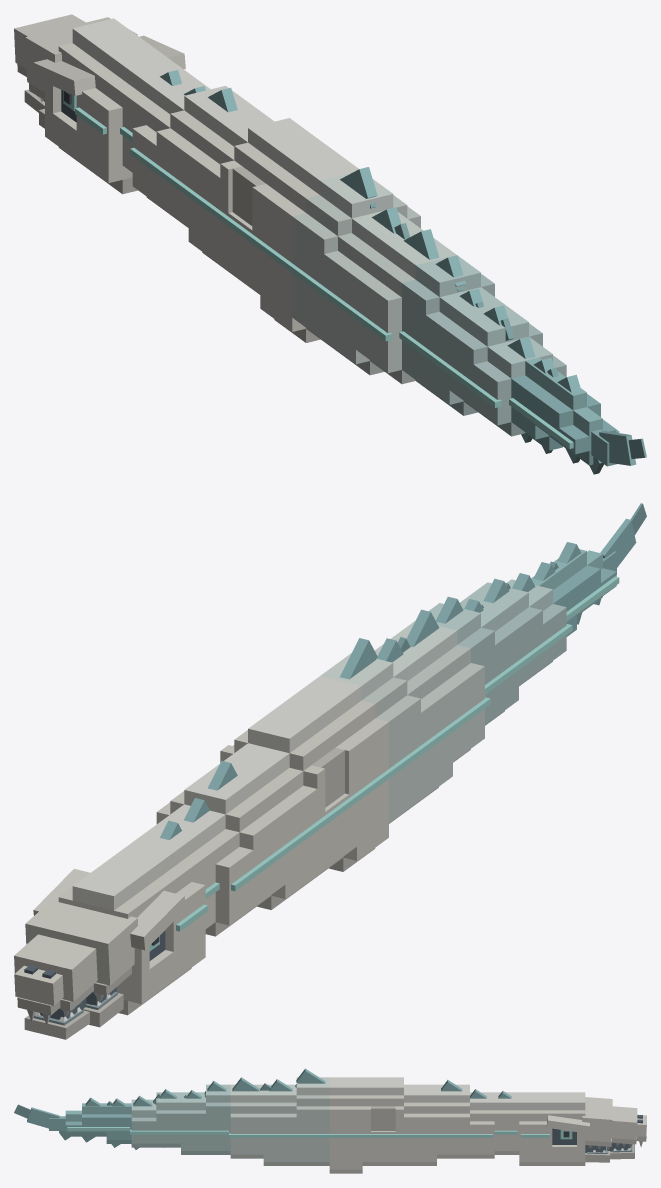
File: WraithEel.glb
The picture shows the model from 3 angles, top to bottom: view 1: azimuth 30°, elevation 25°; view 2: azimuth 150°, elevation 25°; view 3: azimuth 270°, elevation 25°; orthographic projection. The views are drawn at different scales.
Parts seen in each view (by area): view 1: Head, S5, S7, S6, S9, S8, S3, S4, S10, S12, S13, S11 (+6 smaller); view 2: Head, S5, S6, S3, S7, S4, S9, S8, S2, S12, S1, S10 (+6 smaller); view 3: Head, S5, S6, S7, S8, S4, S9, S3, S10, S2, S1, S11 (+8 smaller).
Part boxes in pixels (<box>): Head: <box>14,14,185,194</box>; S5: <box>220,118,328,294</box>; S7: <box>292,167,420,351</box>; S6: <box>260,147,358,342</box>; S9: <box>356,229,456,384</box>; S8: <box>324,207,423,375</box>; S3: <box>156,85,256,227</box>; S4: <box>188,109,274,275</box>; S10: <box>402,255,494,397</box>; S12: <box>449,304,542,418</box>; S13: <box>473,336,566,442</box>; S11: <box>426,287,504,415</box>; Head: <box>14,839,205,1025</box>; S5: <box>220,699,356,886</box>; S6: <box>288,676,388,871</box>; S3: <box>156,760,285,918</box>; S7: <box>320,638,420,823</box>; S4: <box>216,743,317,909</box>; S9: <box>391,609,484,762</box>; S8: <box>374,637,452,810</box>; S2: <box>160,798,253,936</box>; S12: <box>464,578,542,686</box>; S1: <box>136,820,215,928</box>; S10: <box>428,596,494,724</box>; Head: <box>519,1092,646,1165</box>; S5: <box>362,1077,403,1165</box>; S6: <box>329,1077,362,1173</box>; S7: <box>295,1068,329,1165</box>; S8: <box>260,1079,296,1165</box>; S4: <box>404,1084,436,1165</box>; S9: <box>230,1077,263,1158</box>; S3: <box>437,1080,469,1158</box>; S10: <box>204,1081,230,1154</box>; S2: <box>470,1089,494,1158</box>; S1: <box>494,1091,519,1154</box>; S11: <box>181,1090,205,1154</box>.
Size of the model in its own units: 3.6 by 5.72 by 34.52.
